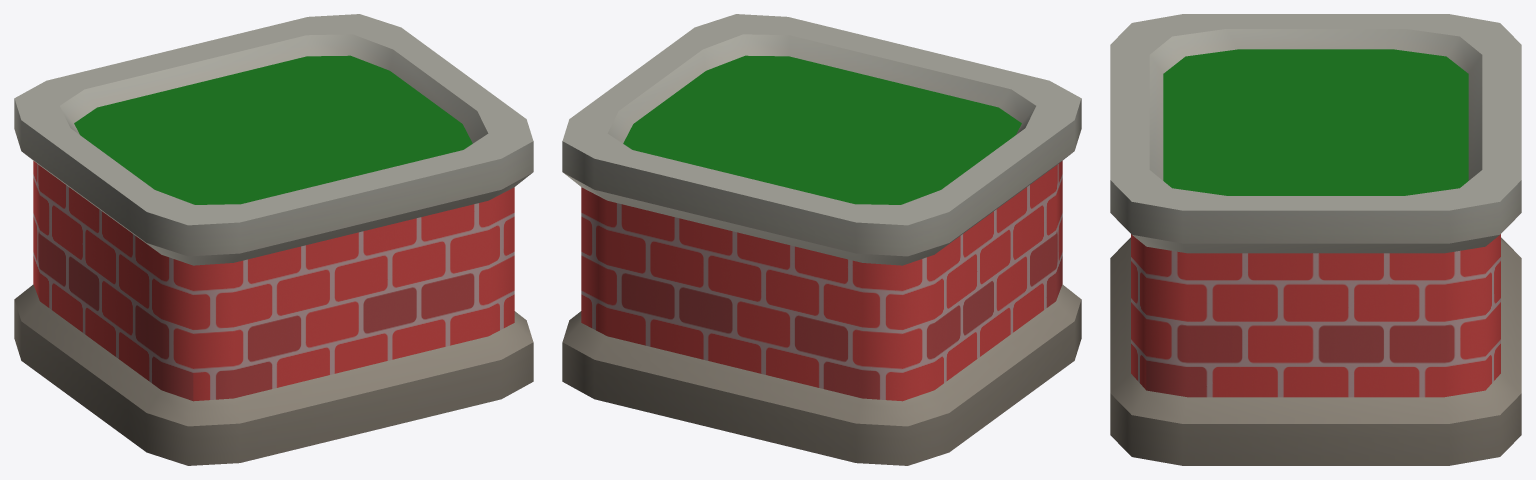
Rendered from FlowerPlacet_5_2_C.glb.
3 renders of one model, left to right at view 1: azimuth 30°, elevation 25°; view 2: azimuth 150°, elevation 25°; view 3: azimuth 270°, elevation 25°, orthographic. The views are drawn at different scales.
Parts seen in each view (by area): view 1: FlowerPlacet_5_2_C; view 2: FlowerPlacet_5_2_C; view 3: FlowerPlacet_5_2_C.
Boxes of the visible parts, <box> form: FlowerPlacet_5_2_C: <box>14,14,533,465</box>; FlowerPlacet_5_2_C: <box>562,14,1081,465</box>; FlowerPlacet_5_2_C: <box>1110,14,1521,465</box>.
Bounding box in the file's own units: 1.43 × 0.8638 × 1.26.
Materials: 2 (2 with a texture image).
